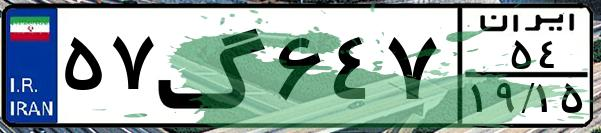1: (470, 70, 495, 125), (535, 70, 560, 125)
4: (330, 28, 385, 110), (537, 27, 568, 80)
5: (57, 26, 110, 100), (560, 70, 590, 125), (508, 27, 537, 80)
6: (270, 28, 330, 110)
7: (385, 28, 445, 110), (110, 28, 156, 98)
9: (495, 70, 520, 125)
گ: (156, 12, 270, 120)
